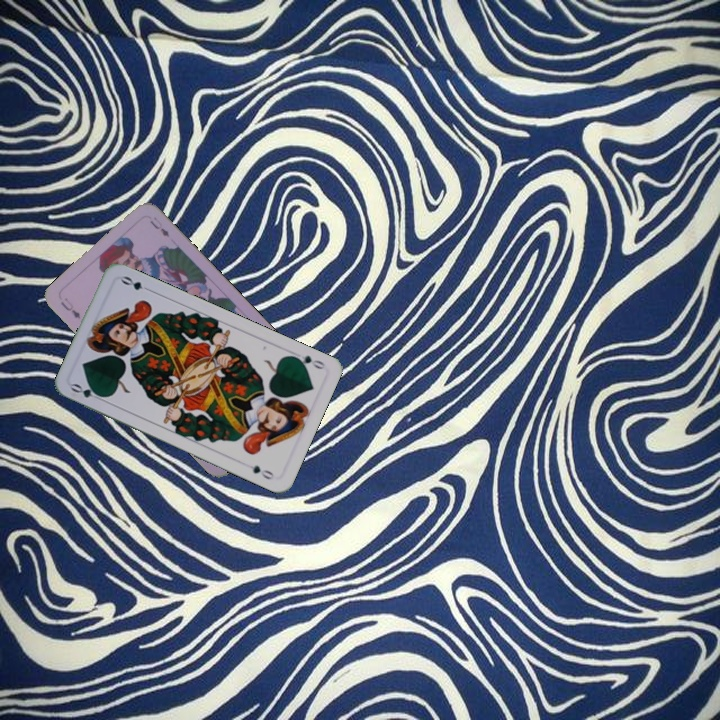EU: (56, 296, 83, 321)
GO: (67, 379, 108, 404), (288, 351, 328, 372)
